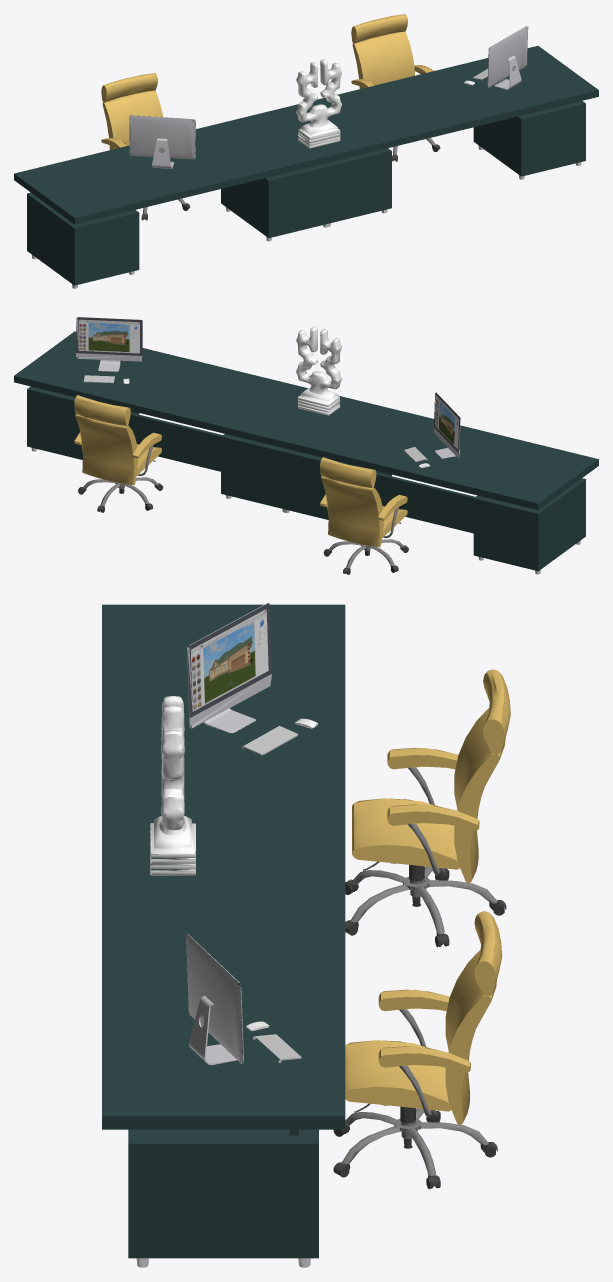
Rendered from receptionCompressed.fbx.
The picture shows the model from 3 angles, top to bottom: view 1: azimuth 30°, elevation 25°; view 2: azimuth 150°, elevation 25°; view 3: azimuth 270°, elevation 25°; orthographic projection. The views are drawn at different scales.
Parts seen in each view (by area): view 1: Furniture_0Dh$ZH12TCmuQVOr$YqPow; view 2: Furniture_0Dh$ZH12TCmuQVOr$YqPow; view 3: Furniture_0Dh$ZH12TCmuQVOr$YqPow.
Part boxes in pixels (x1,y1,x2,y2): Furniture_0Dh$ZH12TCmuQVOr$YqPow: (14, 14, 598, 288); Furniture_0Dh$ZH12TCmuQVOr$YqPow: (14, 317, 598, 574); Furniture_0Dh$ZH12TCmuQVOr$YqPow: (102, 603, 510, 1267).
Bounding box in the file's own units: 583 × 169 × 197.
